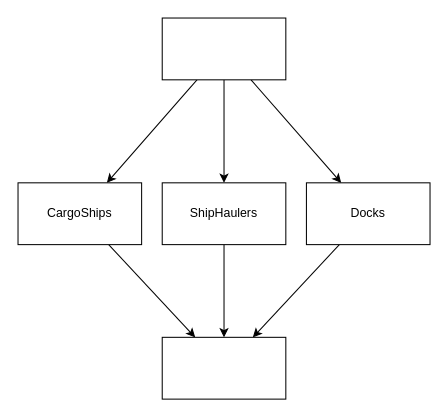
The diagram is 448 pixels wide and 417 high, and some of its shapes have lost their labels. The centre of each missing label's shape, as x and y in pixels:
"database" belongs at pixel 223 367.
"main.js" belongs at pixel 223 48.
